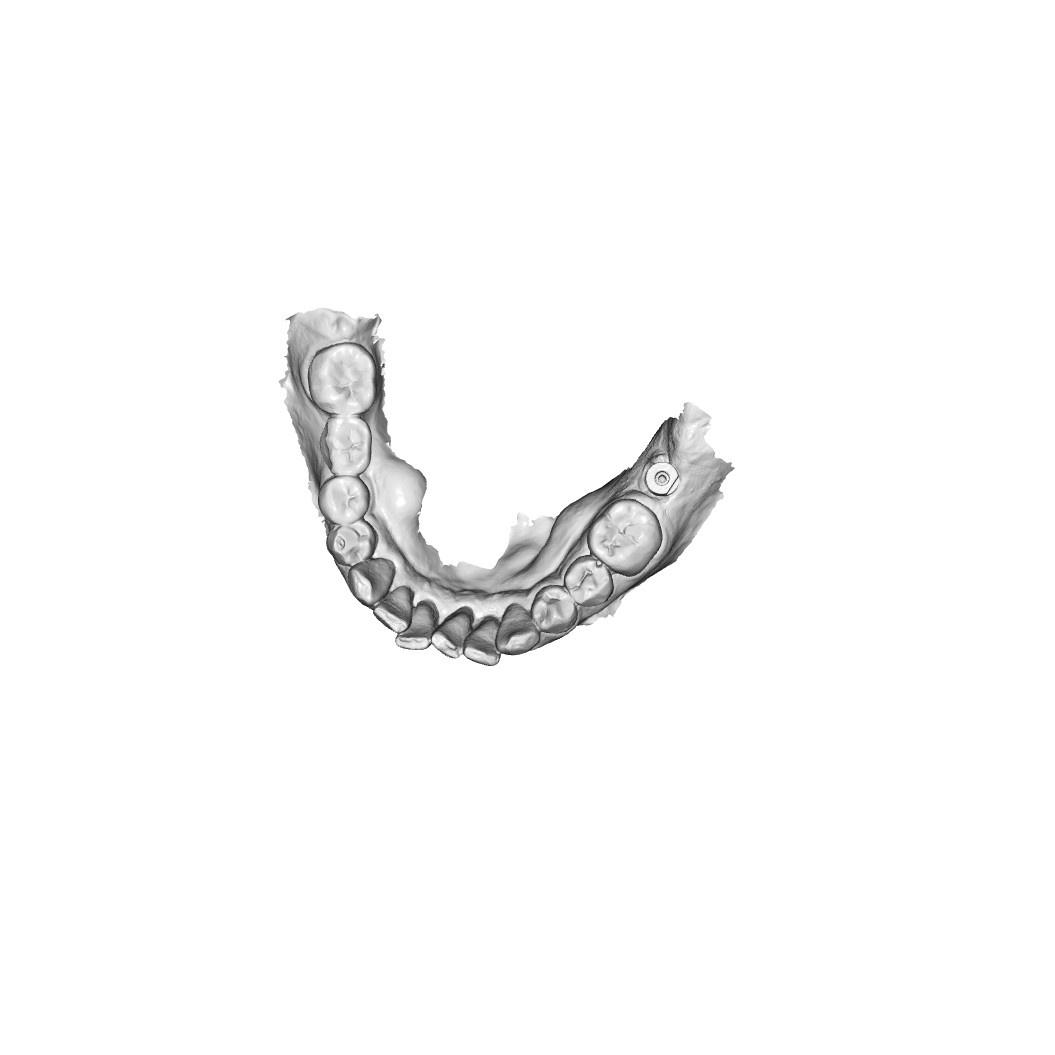canine: (495, 604, 541, 658), (345, 557, 395, 606)
implant: (647, 459, 683, 498)
incisor: (397, 604, 443, 652), (431, 611, 469, 661), (463, 621, 500, 668), (372, 585, 411, 627)
molar: (587, 497, 666, 578), (305, 341, 378, 415), (319, 415, 371, 476)
premolar: (534, 587, 582, 631), (325, 523, 374, 566), (566, 560, 611, 606), (323, 477, 366, 521)
